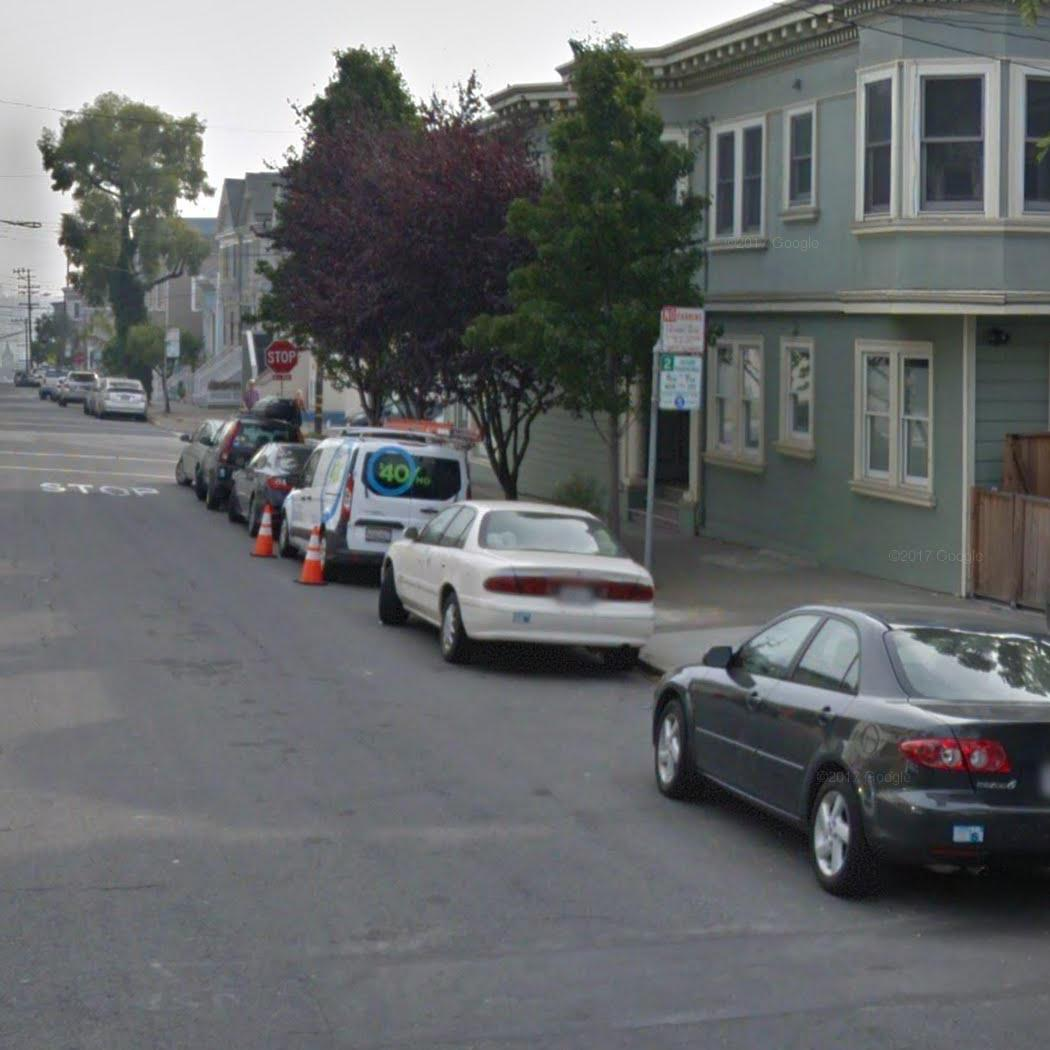2 Hour Parking: (655, 351, 707, 415)
No Parking: (655, 304, 708, 355)
